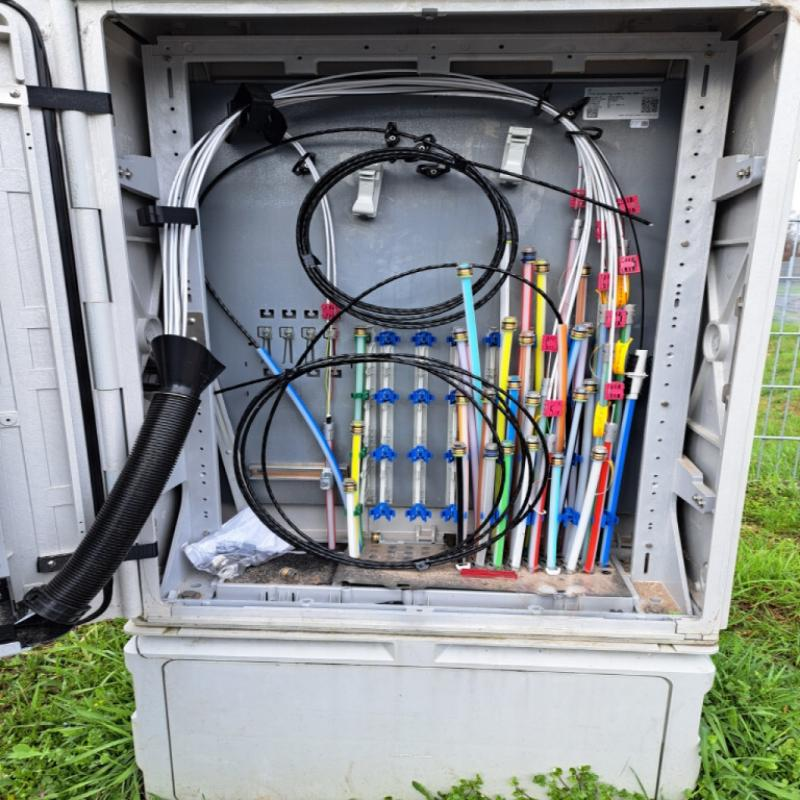NT-Gehause: (4, 1, 788, 759)
